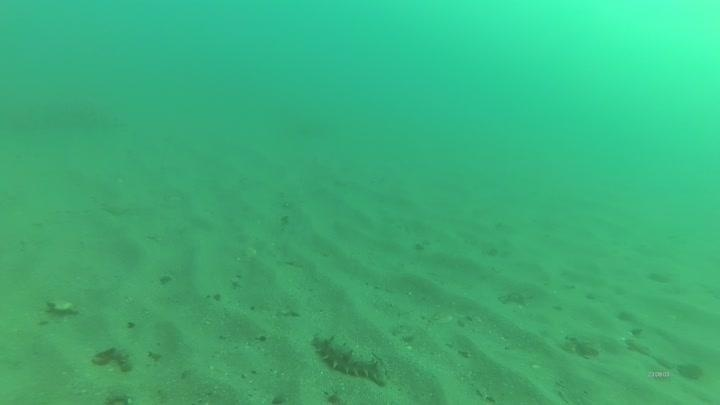holothurian: (309, 330, 389, 386)
